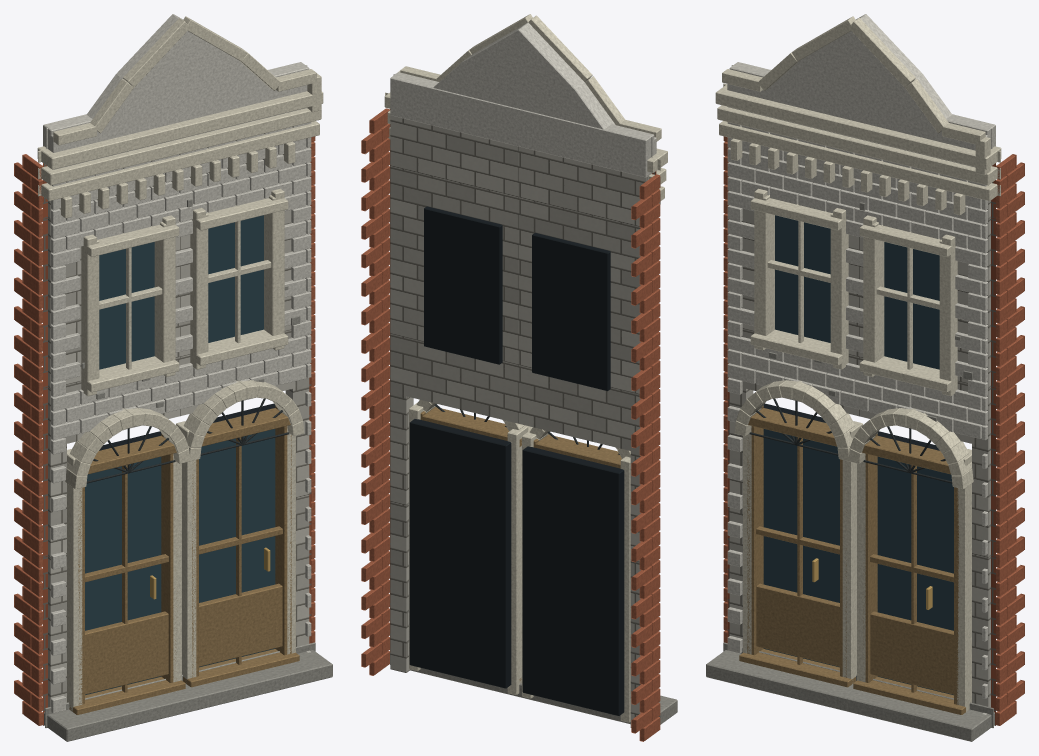
File: CLSTGA11_lod0.glb
3 renders of one model, left to right at view 1: azimuth 30°, elevation 25°; view 2: azimuth 150°, elevation 25°; view 3: azimuth 330°, elevation 25°, orthographic.
Parts seen in each view (by area): view 1: CLSTGA11_FRONT_LOD0; view 2: CLSTGA11_FRONT_LOD0; view 3: CLSTGA11_FRONT_LOD0.
Boxes of the visible parts, left/top/right/bottom form: CLSTGA11_FRONT_LOD0: left=14, top=14, right=332, bottom=741; CLSTGA11_FRONT_LOD0: left=361, top=14, right=677, bottom=741; CLSTGA11_FRONT_LOD0: left=706, top=14, right=1024, bottom=741.
Size of the model in its own units: 3.44 by 8.04 by 1.02.
Materials: 16 (13 with a texture image).
